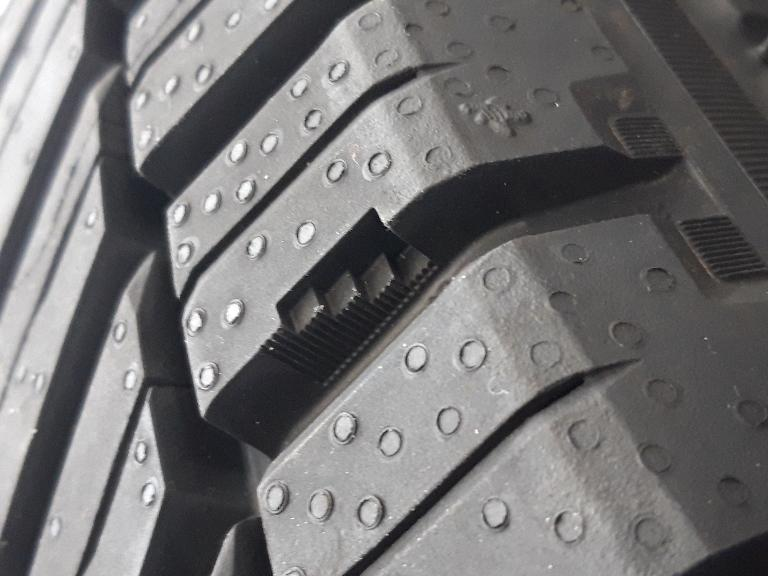temoin:100: (249, 201, 447, 395)
